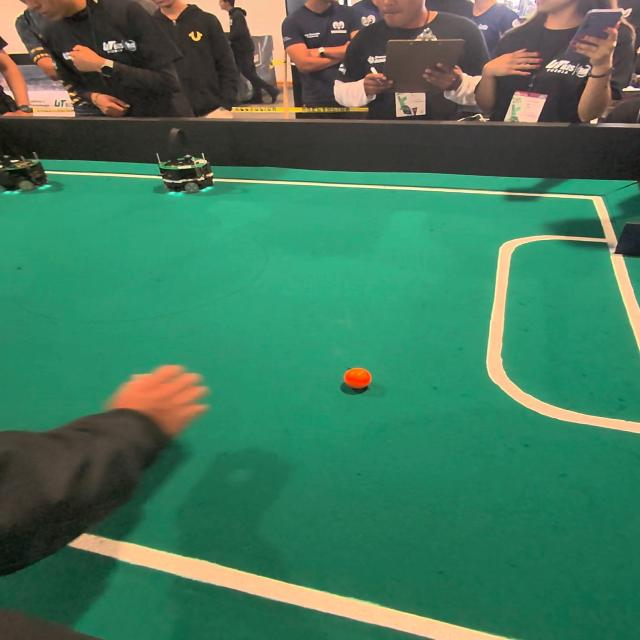Robot: (148, 121, 216, 201), (0, 132, 61, 202)
pelota: (340, 369, 372, 395)
